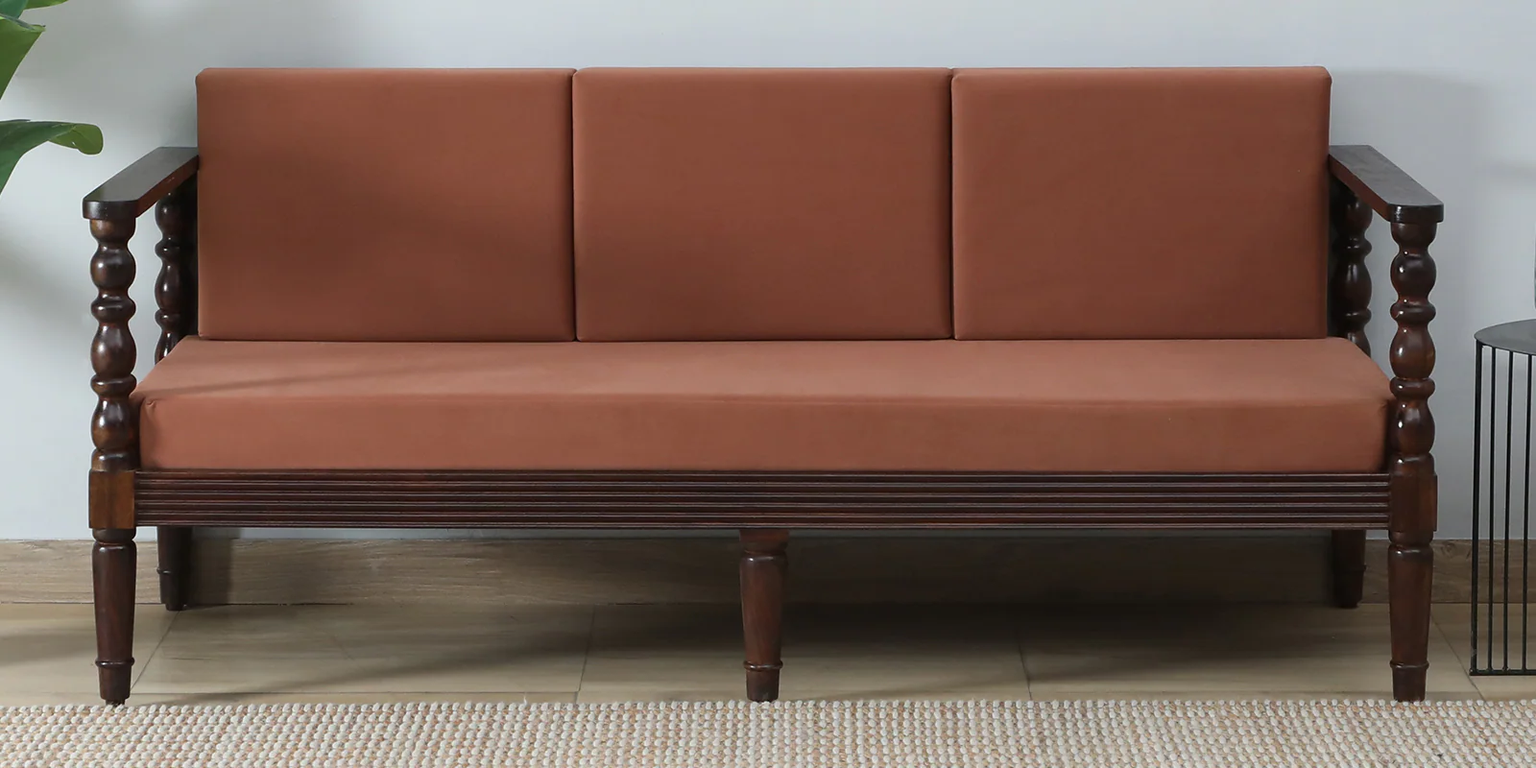3seatersofa: (84, 68, 1443, 702)
backrest: (197, 68, 1328, 339)
base: (132, 469, 1395, 529), (84, 147, 199, 256)
leftarmrest: (1330, 145, 1443, 228)
leg: (89, 219, 137, 703), (1387, 228, 1435, 700), (740, 529, 788, 701), (156, 180, 195, 362), (1330, 181, 1371, 353), (1332, 531, 1365, 608), (160, 531, 189, 609)
rightarmrest: (83, 148, 199, 229)
seat: (132, 337, 1389, 473)
